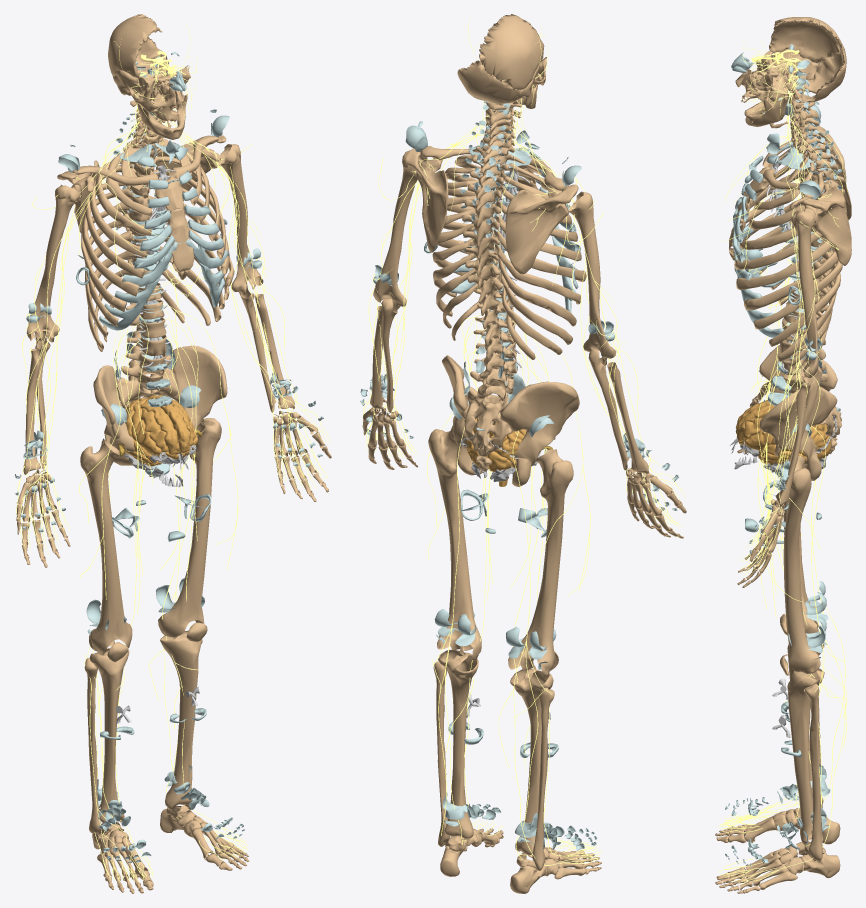
File: neurology.glb
3 views of the same model, side by side, from view 1: azimuth 30°, elevation 25°; view 2: azimuth 150°, elevation 25°; view 3: azimuth 270°, elevation 25° (orthographic). The views are drawn at different scales.
Parts seen in each view (by area): view 1: Object_6, Object_102, Object_54, Object_40, Object_61, Object_153; view 2: Object_6, Object_102, Object_54, Object_61, Object_40; view 3: Object_6, Object_102, Object_54, Object_61, Object_40, Object_153, Object_162, Object_168.
Part boxes in pixels (box(x1,y1,x2,y2)): Object_6: box(16, 14, 331, 893); Object_102: box(16, 24, 330, 881); Object_54: box(15, 52, 323, 862); Object_40: box(118, 395, 197, 476); Object_61: box(76, 142, 227, 739); Object_153: box(115, 165, 199, 724); Object_6: box(362, 14, 686, 893); Object_102: box(362, 17, 685, 865); Object_54: box(360, 49, 679, 850); Object_61: box(424, 145, 579, 757); Object_40: box(466, 418, 540, 486); Object_6: box(715, 17, 851, 893); Object_102: box(718, 14, 848, 884); Object_54: box(725, 44, 841, 866); Object_61: box(745, 141, 821, 757); Object_40: box(735, 400, 831, 465); Object_153: box(763, 160, 801, 737); Object_162: box(730, 415, 837, 469); Object_168: box(740, 444, 826, 472).
Size of the model in its own units: 21931 by 55581 by 8196.
